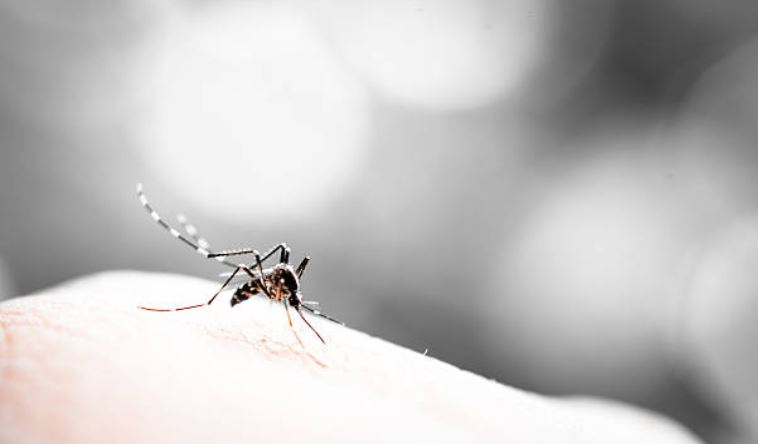dengue_mosquito: (135, 182, 345, 346)
